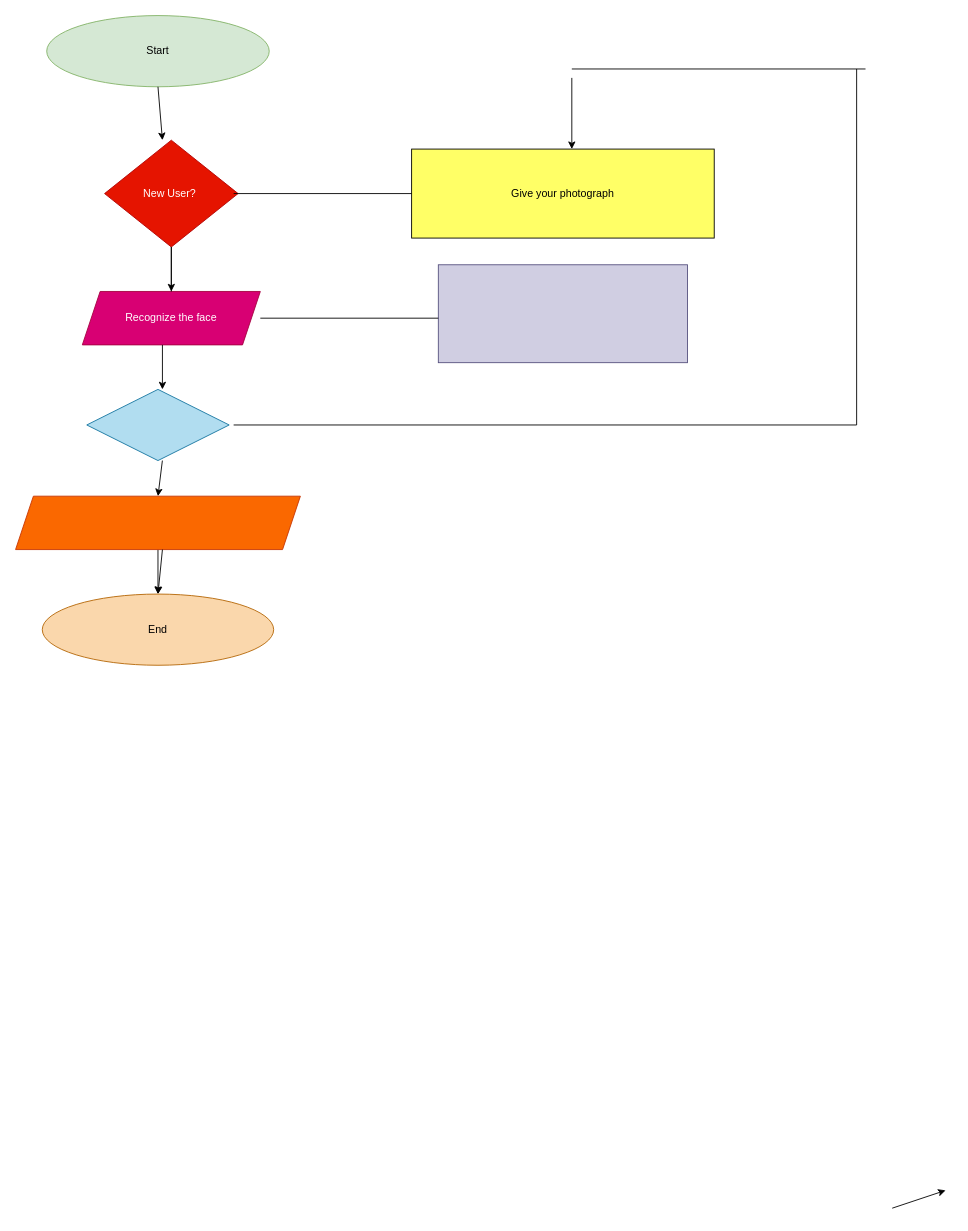
The diagram is 968 pixels wide and 1231 high, and some of its shapes have lost their labels. Each missing label, with the centre of its shape:
Face Recognized: the point at 157,424
Stored in cav file with Registration Number & Dat Time of Entry: the point at 157,522
